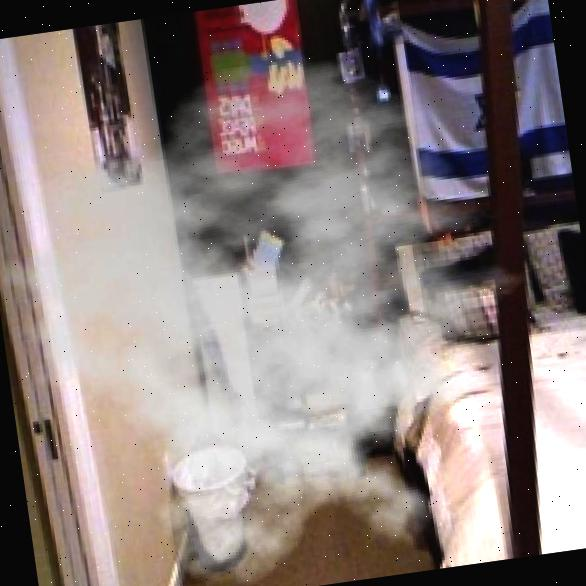smoke: (0, 24, 586, 586)
